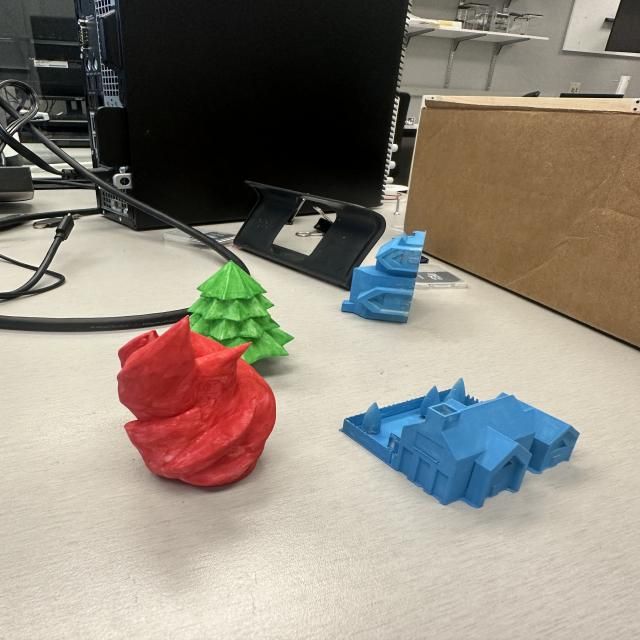fire: (112, 314, 279, 488)
house: (338, 375, 582, 510), (336, 229, 431, 323)
tree: (184, 258, 295, 366)
